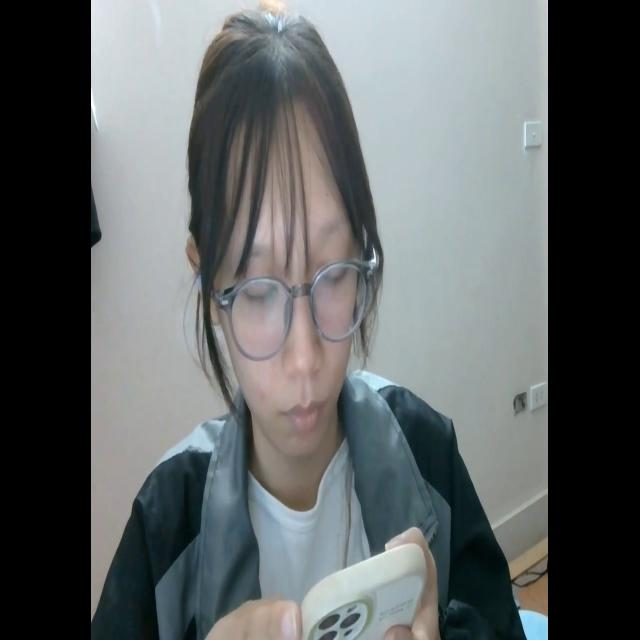phone: (296, 530, 426, 640)
student: (98, 10, 524, 640)
